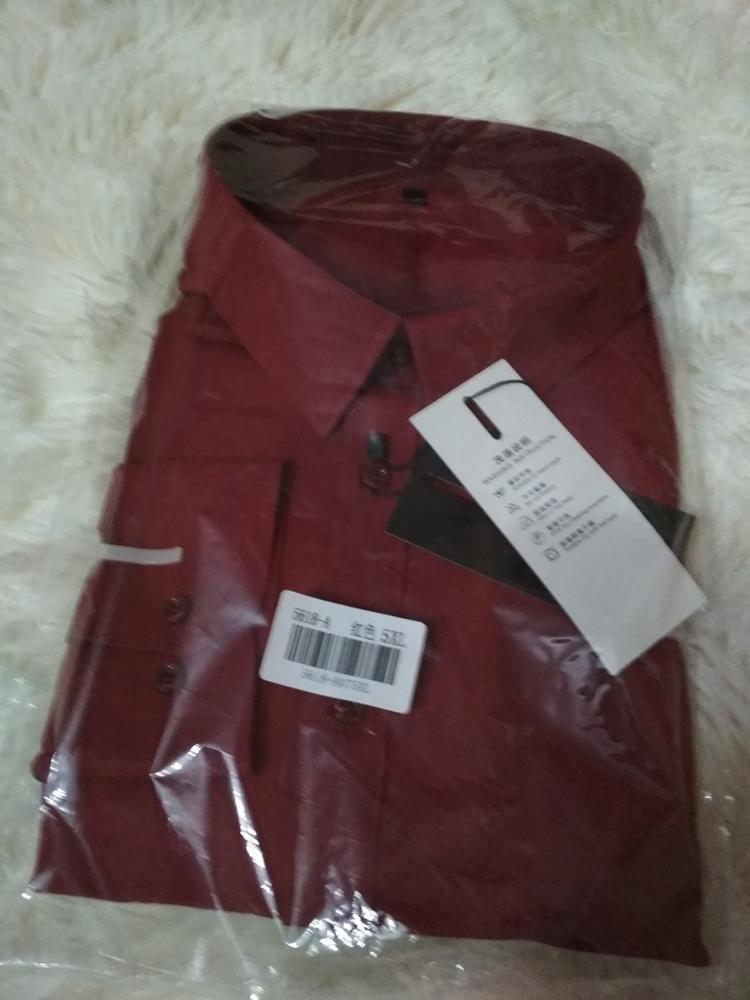shirts: (47, 128, 704, 972)
